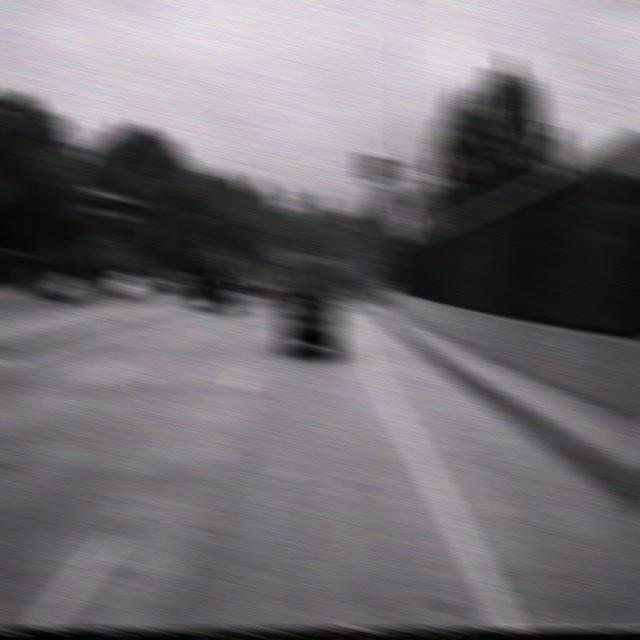pedestrianCrossing: (386, 192, 420, 242)
